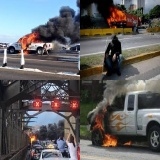fire: (18, 34, 45, 55), (89, 108, 108, 132), (106, 7, 125, 27), (102, 134, 119, 152), (26, 131, 38, 144), (123, 138, 134, 150)
